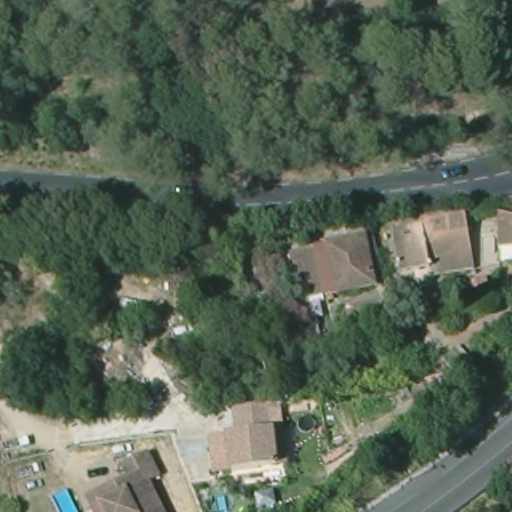pool: (49, 488, 79, 512), (216, 494, 231, 510)
